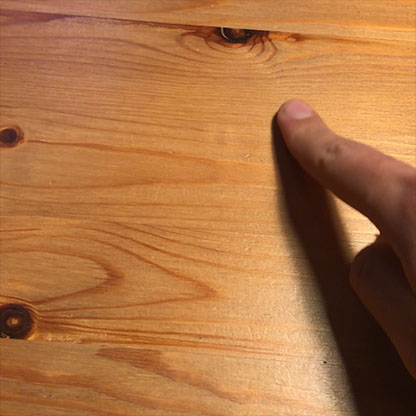fingertip: (272, 90, 321, 131)
